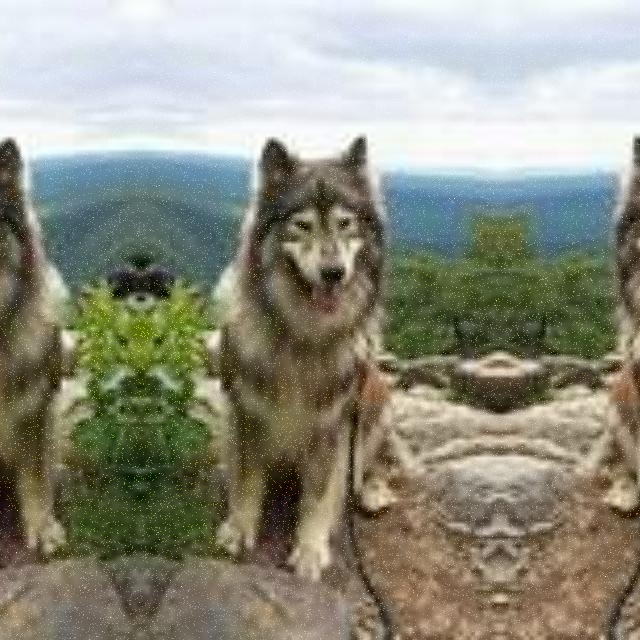dog: (190, 129, 469, 601), (531, 129, 640, 601), (0, 129, 90, 601)
